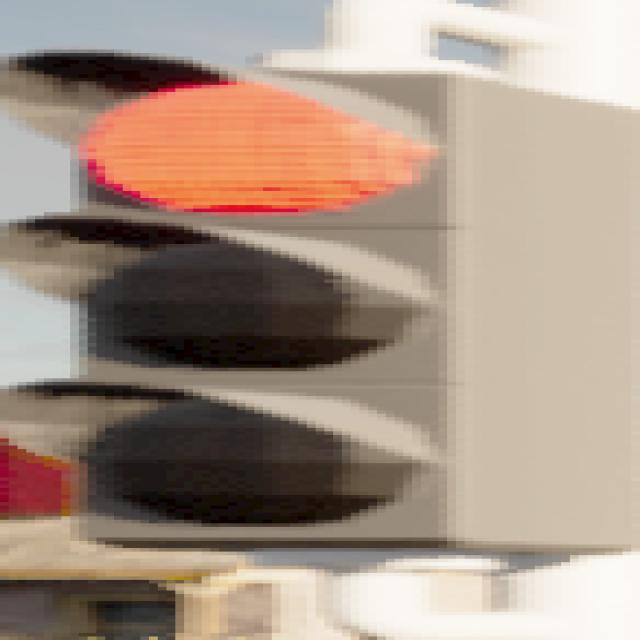red_light: (0, 52, 638, 567)
